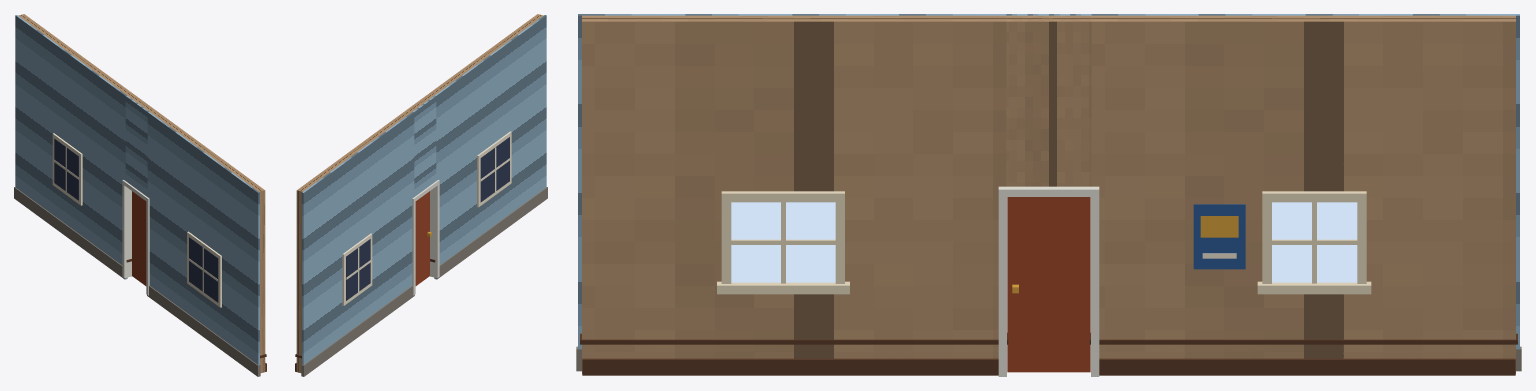
The model's file is left.glb.
3 renders of one model, left to right at view 1: azimuth 30°, elevation 25°; view 2: azimuth 150°, elevation 25°; view 3: azimuth 270°, elevation 25°, orthographic. The views are drawn at different scales.
Visible parts, largest first — view 1: Box8, Box6, Box10, Box3, Box9, Box7, Box14, Box18, Box29, Box11, Box1, Box28 (+2 smaller); view 2: Box6, Box8, Box10, Box1, Box7, Box9, Box14, Box18, Box29, Box12, Box3, Box17 (+2 smaller); view 3: Box3, Box1, Box5, Box14, Box25, Box2, Box4, Box36, Box39, Box43, Box45, Box6 (+15 smaller).
Boxes of the visible parts, x1,y1,x2,y2 form: Box8: (147, 112, 259, 364); Box6: (15, 15, 127, 278); Box10: (125, 95, 148, 196); Box3: (150, 110, 265, 372); Box9: (147, 285, 260, 376); Box7: (14, 187, 126, 279); Box14: (132, 191, 146, 285); Box18: (189, 237, 218, 302); Box29: (54, 138, 78, 200); Box11: (122, 180, 131, 278); Box1: (18, 14, 133, 95); Box28: (52, 133, 82, 205); Box6: (302, 112, 414, 364); Box8: (434, 15, 546, 278); Box10: (413, 95, 436, 196); Box1: (296, 110, 411, 372); Box7: (301, 285, 414, 376); Box9: (435, 187, 547, 279); Box14: (415, 191, 429, 285); Box18: (480, 137, 509, 202); Box29: (346, 239, 370, 300); Box12: (430, 180, 439, 278); Box3: (428, 14, 543, 95); Box17: (477, 131, 511, 207); Box3: (582, 15, 1006, 373); Box1: (1091, 15, 1515, 373); Box5: (1006, 15, 1091, 186); Box14: (1007, 197, 1090, 372); Box25: (731, 202, 835, 282); Box2: (1099, 358, 1515, 375); Box4: (582, 358, 998, 375); Box36: (1272, 202, 1357, 282); Box39: (1193, 204, 1245, 269); Box43: (1089, 333, 1517, 344); Box45: (580, 333, 1008, 344); Box6: (1091, 14, 1519, 348).
Bounding box in the file's own units: 0.338 × 4.14 × 9.97.
12 materials, 2 textured.
